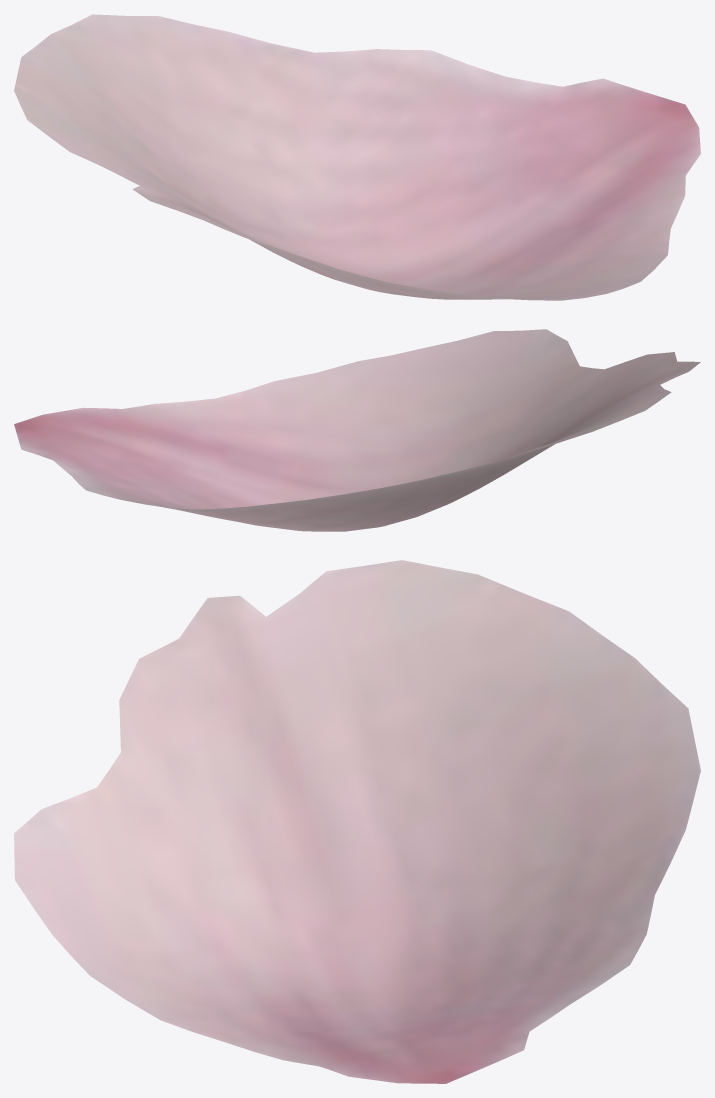
File: petal2.glb
3 renders of one model, top to bottom at view 1: azimuth 30°, elevation 25°; view 2: azimuth 150°, elevation 25°; view 3: azimuth 270°, elevation 25°, orthographic. The views are drawn at different scales.
Visible parts, largest first — view 1: 02.011_petal01_0; view 2: 02.011_petal01_0; view 3: 02.011_petal01_0.
Boxes of the visible parts, bbox=[...] form: 02.011_petal01_0: bbox=[14, 14, 700, 300]; 02.011_petal01_0: bbox=[14, 329, 700, 531]; 02.011_petal01_0: bbox=[14, 560, 700, 1083].
Bounding box in the file's own units: 0.4003 × 0.1243 × 0.3326.
Materials: 1 (1 with a texture image).
